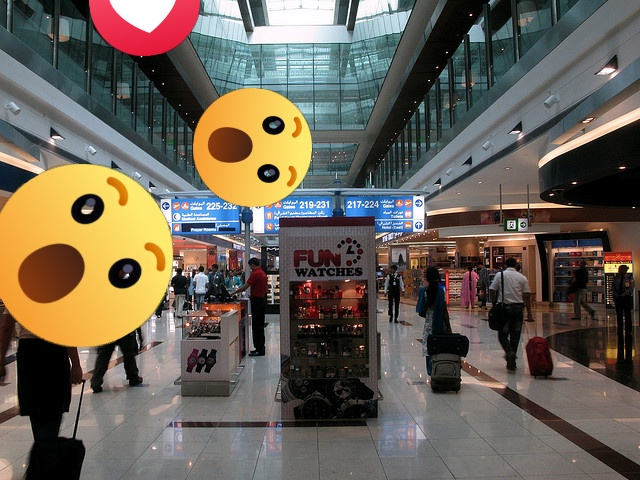love: (89, 0, 200, 56)
wow: (0, 164, 173, 347), (193, 88, 312, 207)
